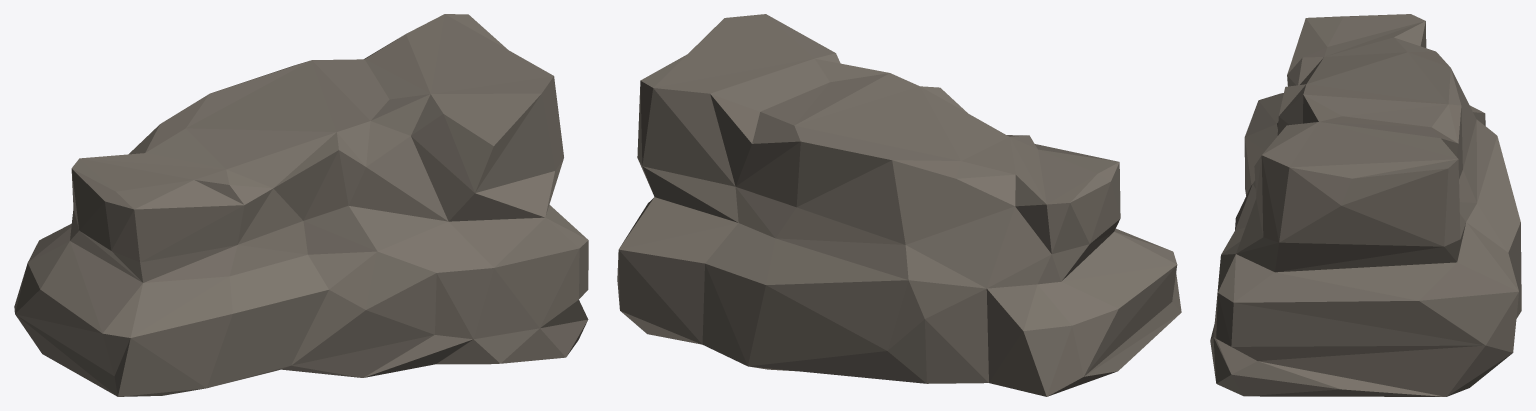
File: SM_Env_Rock_03.glb
3 renders of one model, left to right at view 1: azimuth 30°, elevation 25°; view 2: azimuth 150°, elevation 25°; view 3: azimuth 270°, elevation 25°, orthographic. The views are drawn at different scales.
Parts seen in each view (by area): view 1: node_id4; view 2: node_id4; view 3: node_id4.
Part boxes in pixels (x1,y1,x2,y2): node_id4: (14, 14, 588, 396); node_id4: (617, 14, 1181, 396); node_id4: (1210, 14, 1521, 396).
Size of the model in its own units: 0.512 by 0.2582 by 0.3184.
Materials: 1 (1 with a texture image).
